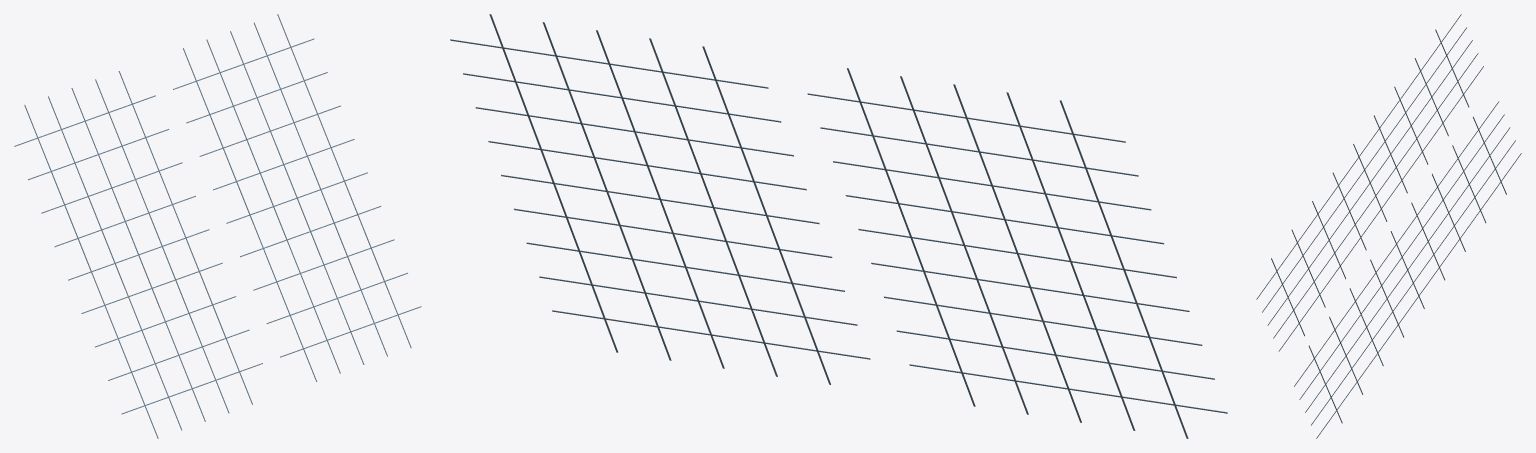
The model's file is solar-array-two--cell-line.glb.
The picture shows the model from 3 angles, left to right: view 1: azimuth 30°, elevation 25°; view 2: azimuth 150°, elevation 25°; view 3: azimuth 270°, elevation 25°; orthographic projection. The views are drawn at different scales.
Visible parts, largest first — view 1: solar-two; view 2: solar-two; view 3: solar-two.
Part boxes in pixels (<box>): solar-two: <box>14,14,421,438</box>; solar-two: <box>450,14,1227,438</box>; solar-two: <box>1256,14,1521,438</box>.
Bounding box in the file's own units: 1.24 × 0.8803 × 0.7845.
